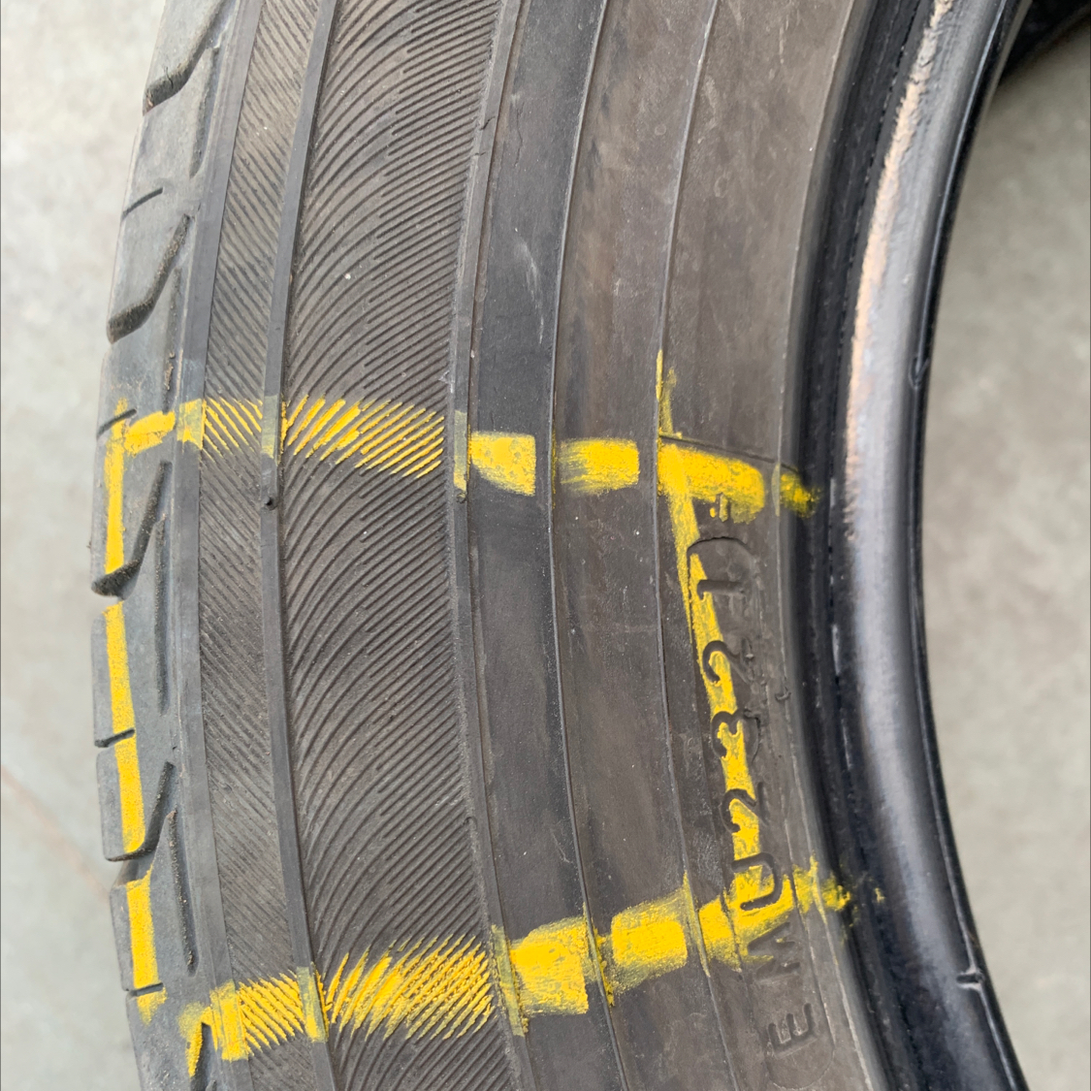CBU: (173, 531, 588, 829)
